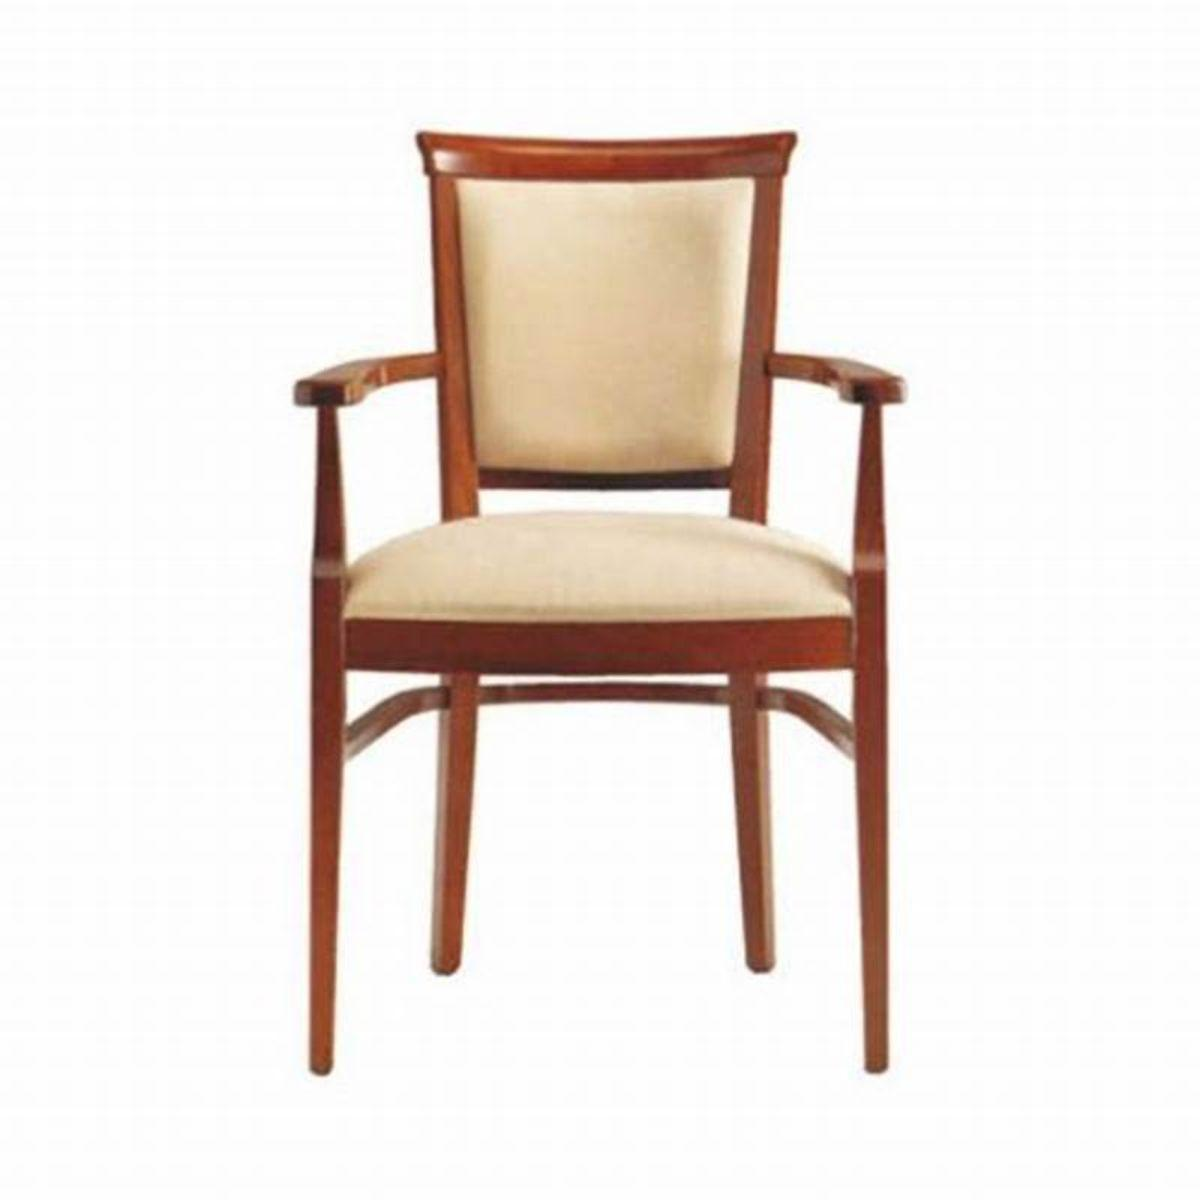Chair: (285, 123, 907, 1078)
